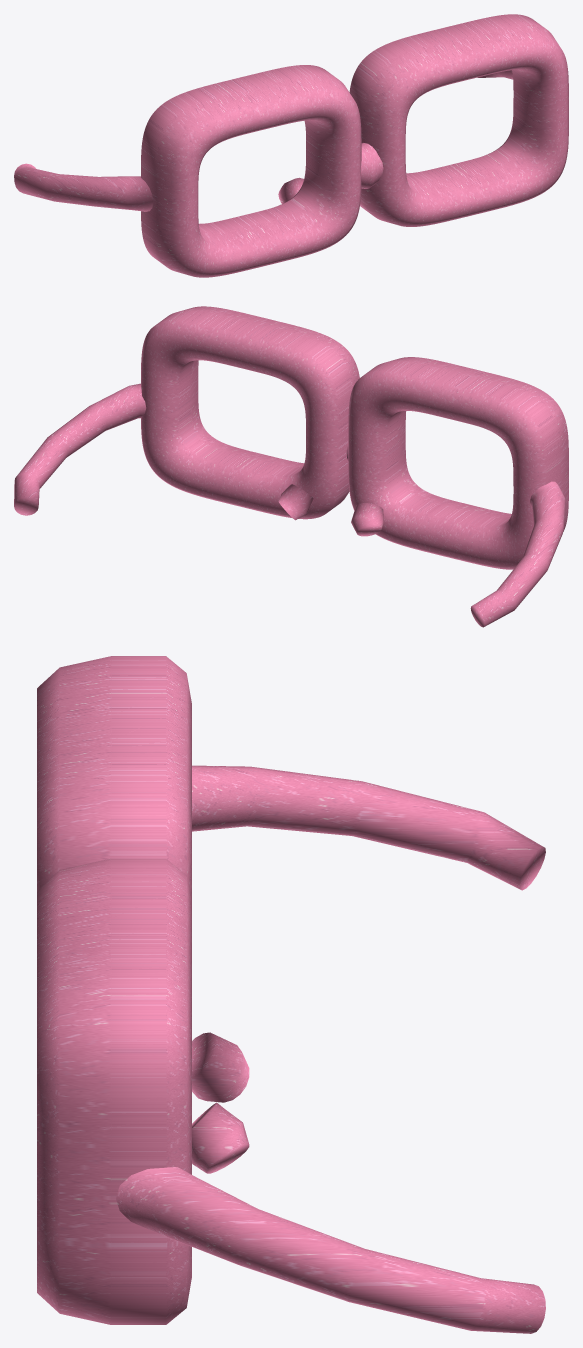
Rendered from furry_glasses_lod_a.glb.
The picture shows the model from 3 angles, top to bottom: view 1: azimuth 30°, elevation 25°; view 2: azimuth 150°, elevation 25°; view 3: azimuth 270°, elevation 25°; orthographic projection. The views are drawn at different scales.
Visible parts, largest first — view 1: FurryGlasses_EyeCenter_Pivot; view 2: FurryGlasses_EyeCenter_Pivot; view 3: FurryGlasses_EyeCenter_Pivot.
Part boxes in pixels (left/top/right/bottom): FurryGlasses_EyeCenter_Pivot: left=14, top=14, right=568, bottom=277; FurryGlasses_EyeCenter_Pivot: left=14, top=306, right=568, bottom=627; FurryGlasses_EyeCenter_Pivot: left=37, top=656, right=545, bottom=1333.
Bounding box in the file's own units: 1.12 × 0.37 × 0.493.
1 material, 1 textured.
